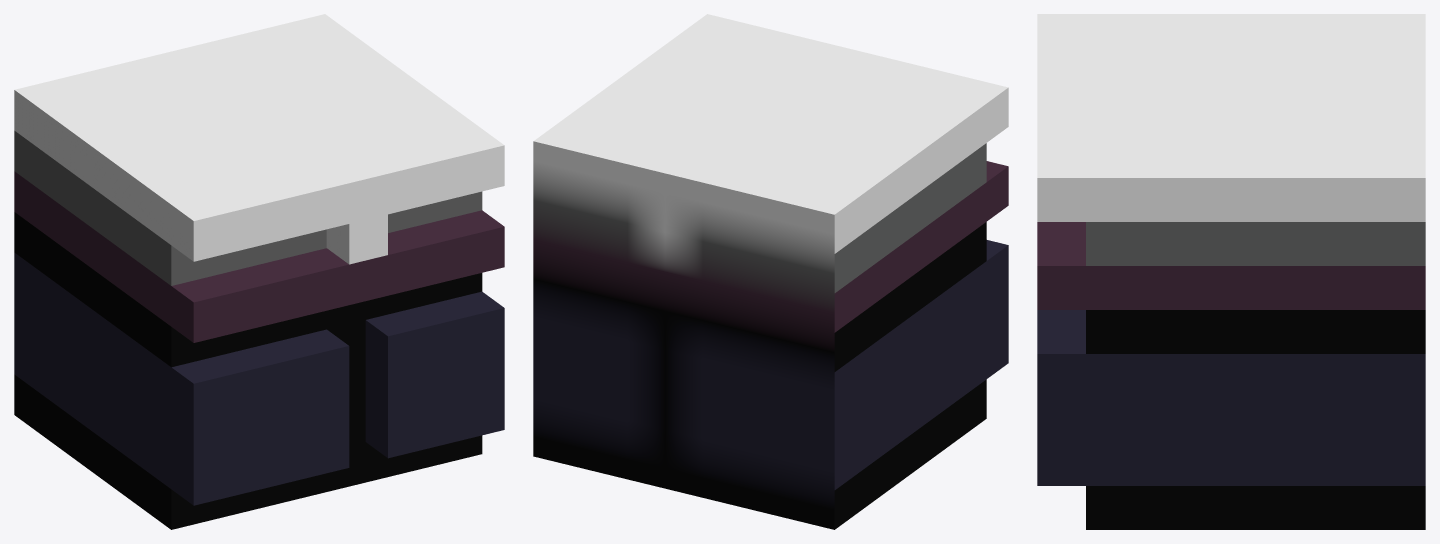
The model's file is floor.fbx.
3 renders of one model, left to right at view 1: azimuth 30°, elevation 25°; view 2: azimuth 150°, elevation 25°; view 3: azimuth 270°, elevation 25°, orthographic. The views are drawn at different scales.
Parts seen in each view (by area): view 1: floor; view 2: floor; view 3: floor.
Part boxes in pixels (x1=…): floor: x1=14, y1=14, x2=504, y2=529; floor: x1=533, y1=14, x2=1008, y2=529; floor: x1=1037, y1=14, x2=1425, y2=529.
Bounding box in the file's own units: 8 × 8 × 8.
